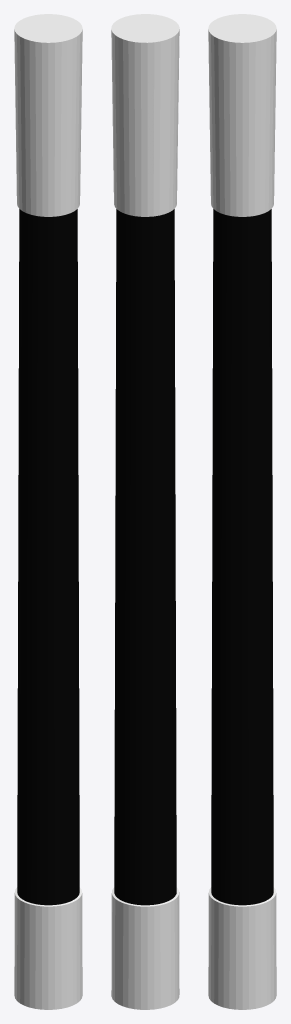
File: magic_stick.gltf
3 views of the same model, side by side, from view 1: azimuth 90°, elevation 25°; view 2: azimuth 150°, elevation 25°; view 3: azimuth 270°, elevation 25° (orthographic).
Visible parts, largest first — view 1: Body, Top, Bottom; view 2: Body, Top, Bottom; view 3: Body, Top, Bottom.
Boxes of the visible parts, x1,y1,x2,y2 form: Body: (17, 209, 79, 905); Top: (14, 14, 82, 216); Bottom: (14, 887, 82, 1009); Body: (114, 209, 176, 905); Top: (111, 14, 179, 216); Bottom: (111, 887, 179, 1009); Body: (211, 209, 273, 905); Top: (208, 14, 276, 216); Bottom: (208, 887, 276, 1009).
Size of the model in its own units: 0.4329 by 6.75 by 0.4329.
3 materials, 3 textured.
